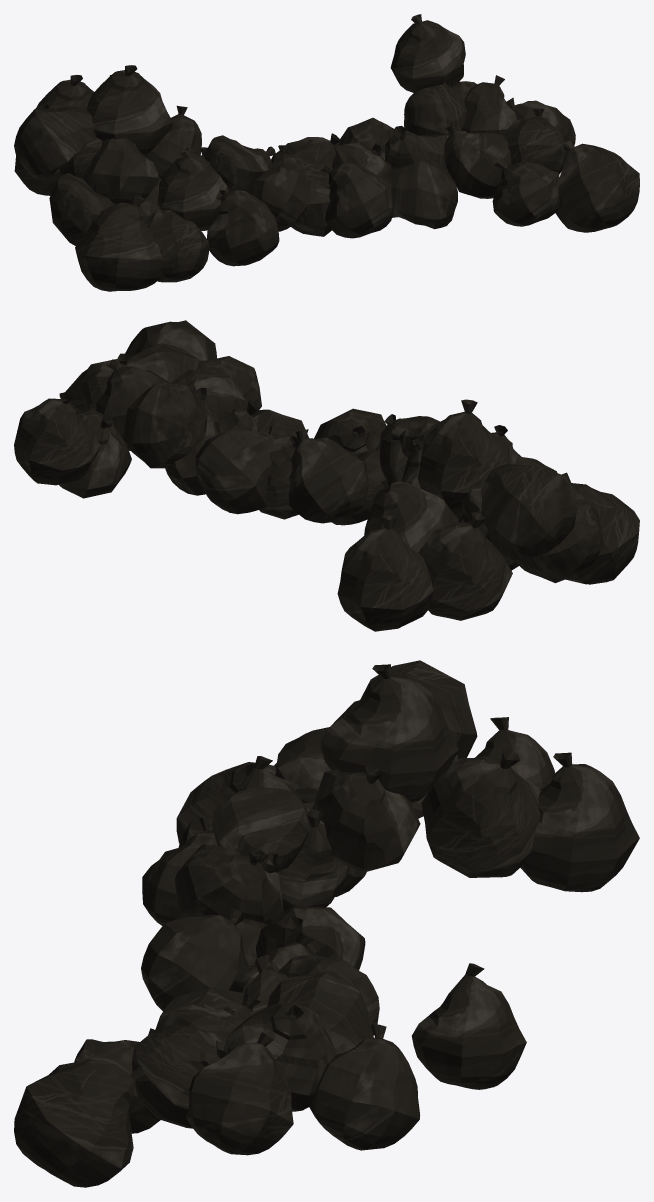
File: SM_trshPile2.fbx
3 views of the same model, one above another, from view 1: azimuth 30°, elevation 25°; view 2: azimuth 150°, elevation 25°; view 3: azimuth 270°, elevation 25° (orthographic). The views are drawn at different scales.
Parts seen in each view (by area): view 1: SM_trashpile2; view 2: SM_trashpile2; view 3: SM_trashpile2.
Part boxes in pixels (x1=…): SM_trashpile2: x1=14, y1=14, x2=639, y2=291; SM_trashpile2: x1=14, y1=320, x2=639, y2=631; SM_trashpile2: x1=14, y1=660, x2=639, y2=1187.
Bounding box in the file's own units: 309 × 104 × 229.
